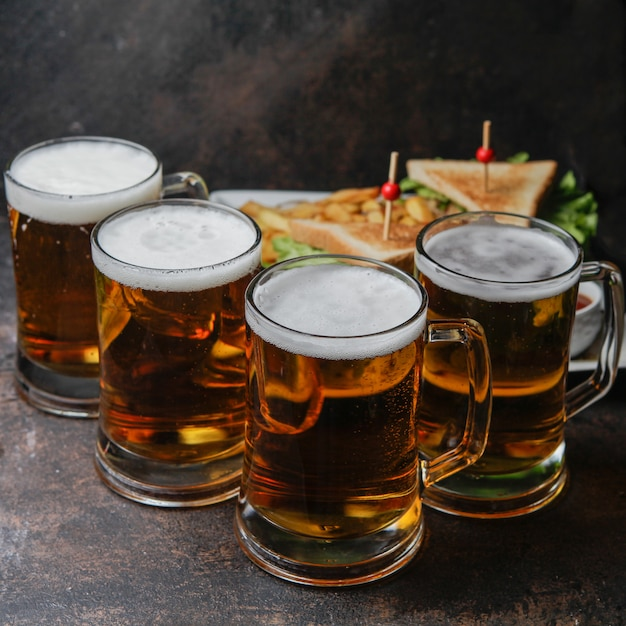alcohol: (232, 253, 495, 591), (416, 209, 624, 519), (1, 134, 215, 419), (88, 197, 277, 508)
